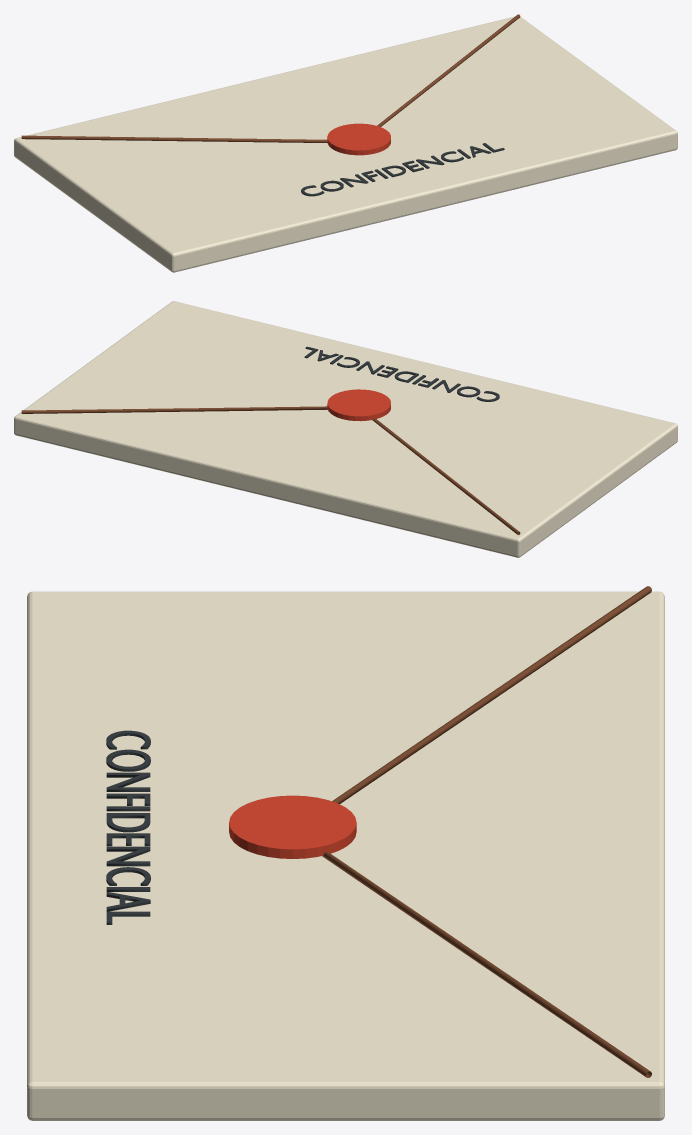
The model's file is Sobre.fbx.
3 renders of one model, top to bottom at view 1: azimuth 30°, elevation 25°; view 2: azimuth 150°, elevation 25°; view 3: azimuth 270°, elevation 25°, orthographic. The views are drawn at different scales.
Visible parts, largest first — view 1: Sobre, Solapa, Sello, Texto_CONFIDENCIAL; view 2: Sobre, Solapa, Sello, Texto_CONFIDENCIAL; view 3: Sobre, Sello, Solapa, Texto_CONFIDENCIAL.
Part boxes in pixels (x1=…): Sobre: x1=14, y1=16, x2=677, y2=272; Solapa: x1=21, y1=14, x2=520, y2=142; Sello: x1=327, y1=123, x2=390, y2=155; Texto_CONFIDENCIAL: x1=301, y1=143, x2=504, y2=196; Sobre: x1=14, y1=301, x2=677, y2=557; Solapa: x1=21, y1=406, x2=520, y2=535; Sello: x1=327, y1=389, x2=390, y2=421; Texto_CONFIDENCIAL: x1=304, y1=346, x2=499, y2=401; Sobre: x1=27, y1=591, x2=664, y2=1120; Sello: x1=229, y1=795, x2=356, y2=858; Solapa: x1=322, y1=586, x2=651, y2=1077; Texto_CONFIDENCIAL: x1=106, y1=730, x2=150, y2=924.
Size of the model in its own units: 22 by 1.1 by 12.
